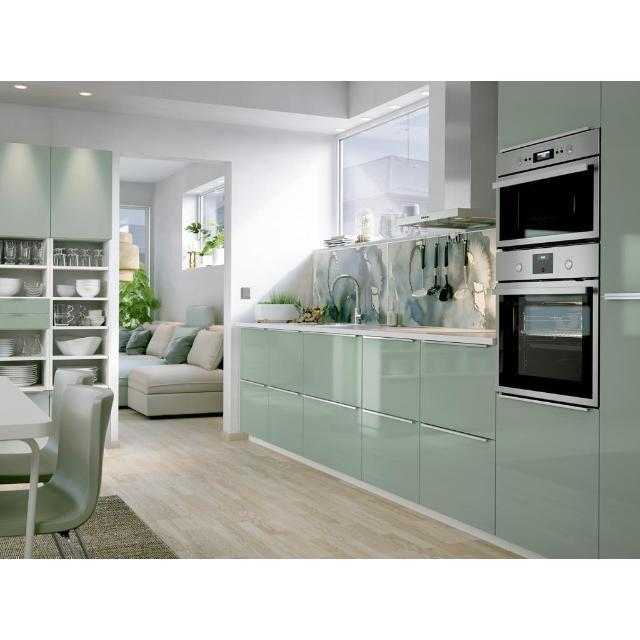chair: (35, 385, 114, 558), (0, 491, 28, 537)
couch: (119, 322, 224, 416)
pillow: (188, 330, 224, 370), (164, 334, 196, 365), (146, 325, 175, 357), (126, 326, 152, 355)
plant: (186, 222, 224, 265)
rug: (79, 495, 178, 558), (34, 535, 61, 558), (0, 536, 25, 558)
shelf: (0, 142, 119, 444)
table: (0, 376, 52, 558)
